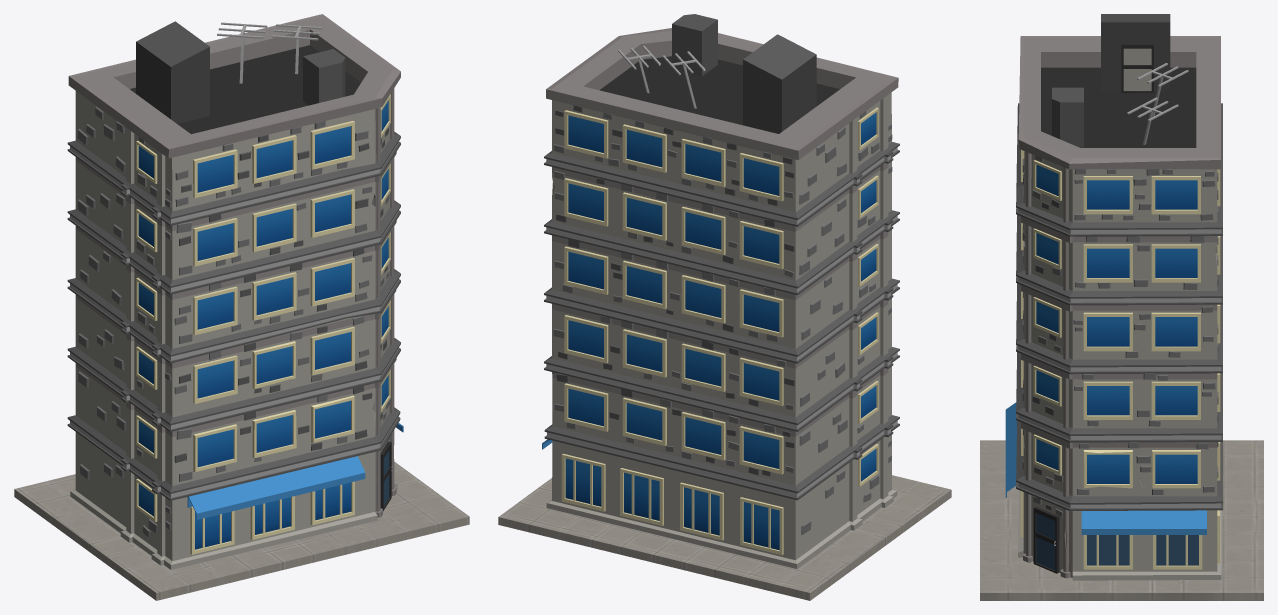
The model's file is House_05.fbx.
3 views of the same model, side by side, from view 1: azimuth 30°, elevation 25°; view 2: azimuth 150°, elevation 25°; view 3: azimuth 270°, elevation 25° (orthographic).
Visible parts, largest first — view 1: House_05; view 2: House_05; view 3: House_05.
Boxes of the visible parts, x1=… form: House_05: x1=14, y1=14, x2=469, y2=600; House_05: x1=498, y1=14, x2=951, y2=600; House_05: x1=980, y1=14, x2=1263, y2=600.
Bounding box in the file's own units: 2100 × 3088 × 1650.
